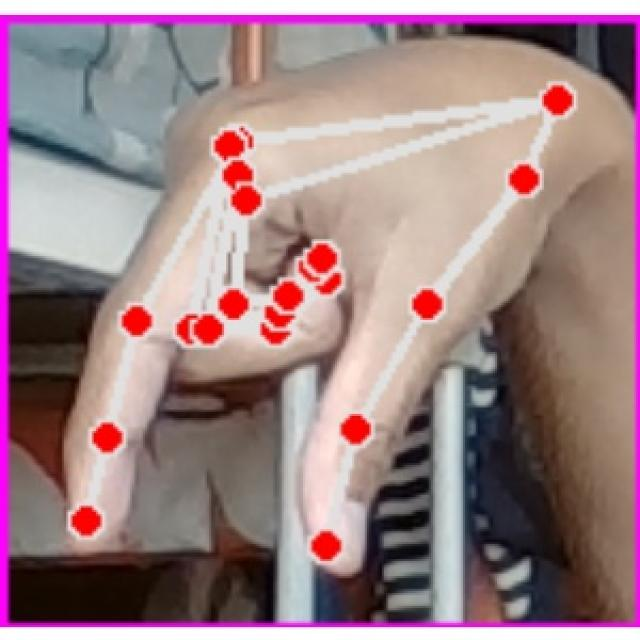Q: (56, 25, 618, 583)
